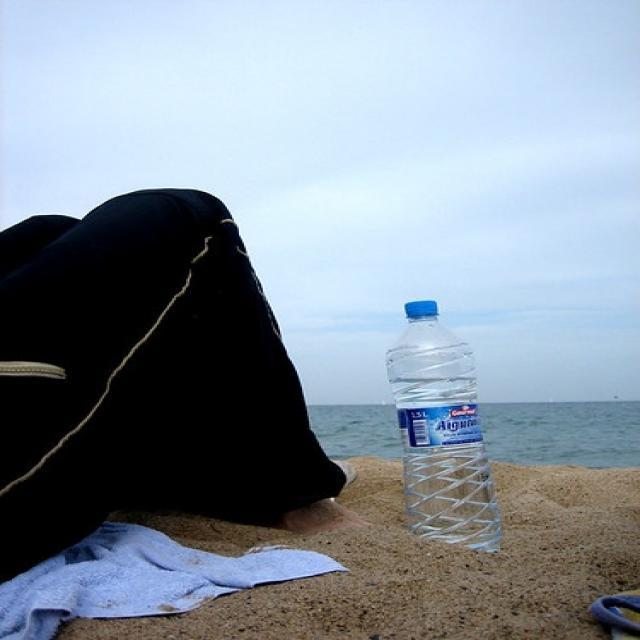plastic_bottle: (379, 301, 507, 560)
